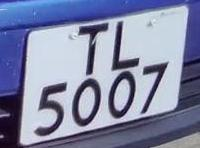0: (68, 74, 105, 131), (106, 68, 139, 123)
5: (30, 74, 71, 142)
7: (140, 59, 173, 117)
L: (109, 17, 143, 74)
T: (75, 20, 112, 77)
